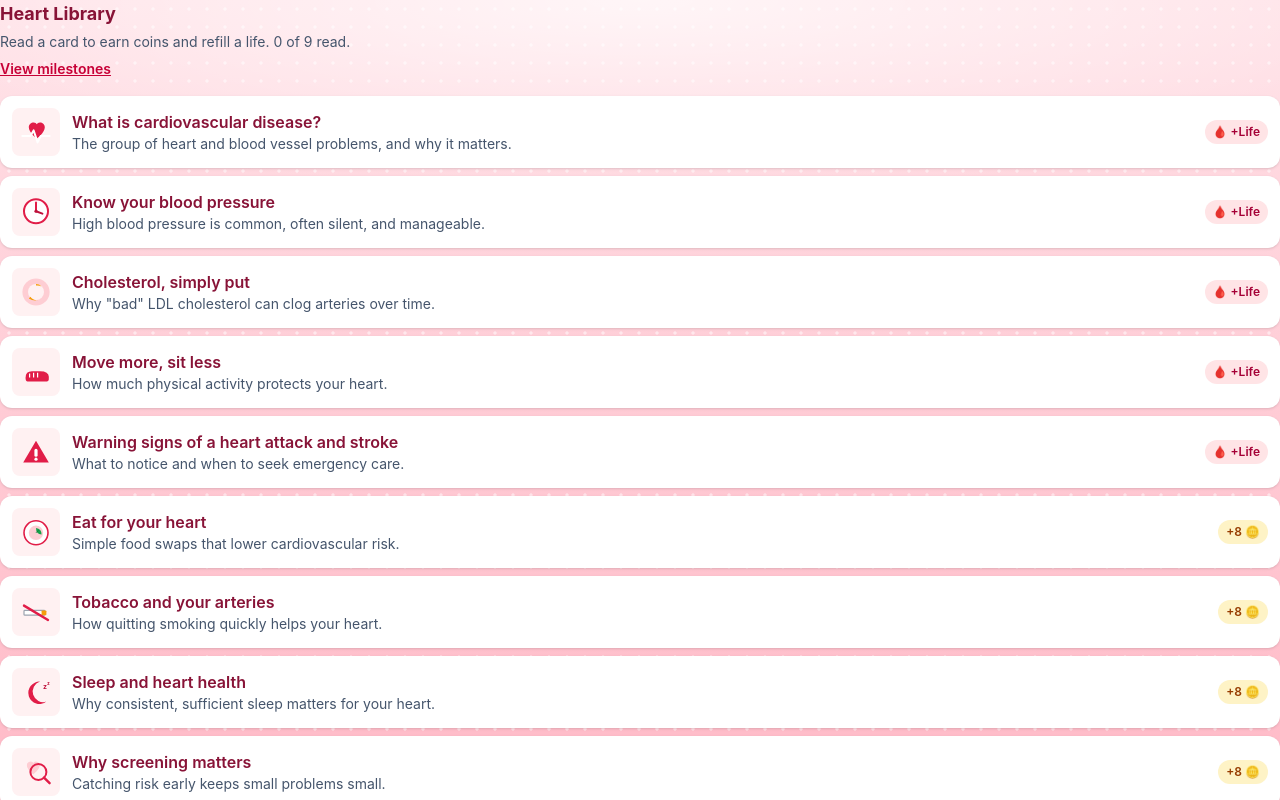
Test: Library screen › lists cards, opens a card, shows sources and the disclaimer, and marks it read
Open a specific card by its title link.
Click the link "Cholesterol, simply put" at coordinates (36, 292), box [0,256,1279,328]
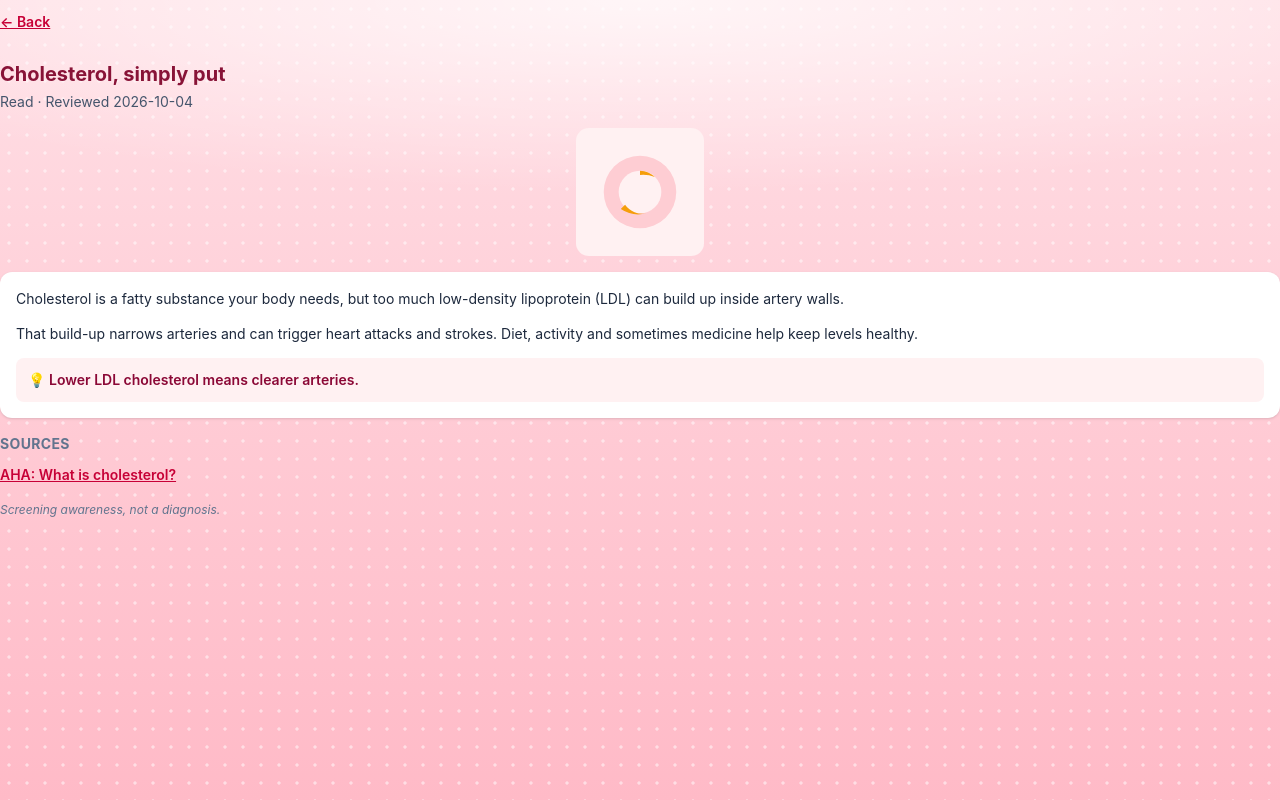
Now the text "Screening awareness, not a diagnosis." is shown, box [0,502,220,516]
